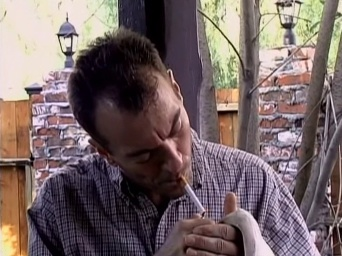smoke: (179, 173, 208, 216)
